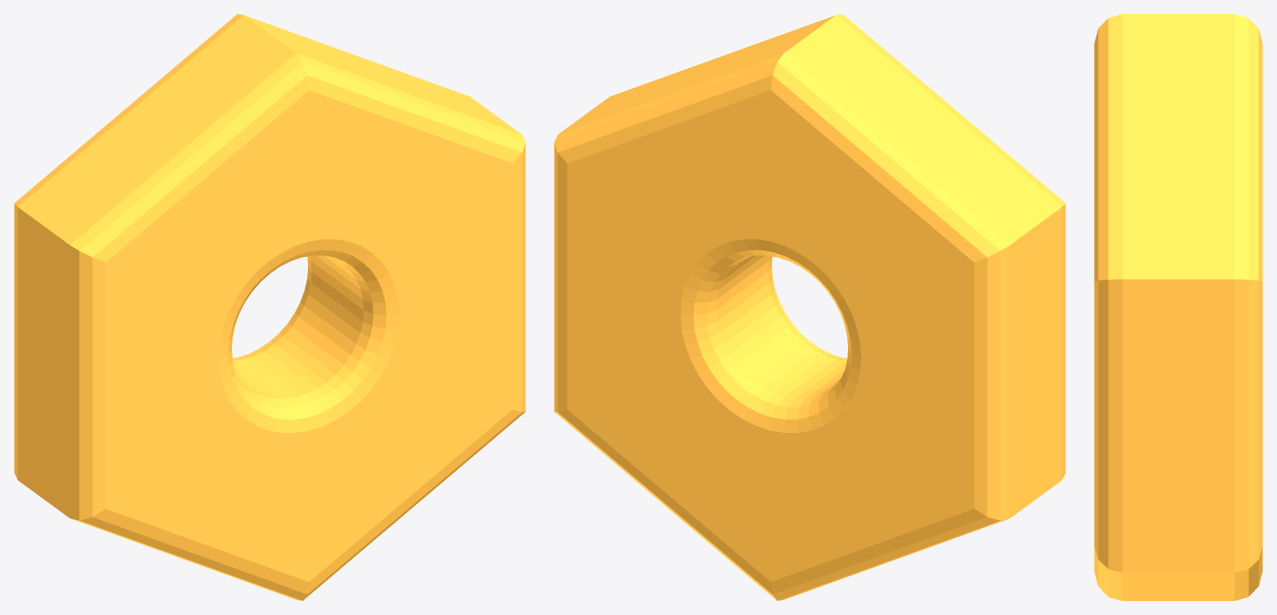
The model's file is token.glb.
3 views of the same model, side by side, from view 1: azimuth 30°, elevation 25°; view 2: azimuth 150°, elevation 25°; view 3: azimuth 270°, elevation 25° (orthographic). The views are drawn at different scales.
Parts seen in each view (by area): view 1: Token; view 2: Token; view 3: Token.
Boxes of the visible parts, <box> form: Token: <box>14,14,525,600</box>; Token: <box>554,14,1065,600</box>; Token: <box>1094,14,1262,600</box>.
Bounding box in the file's own units: 0.5003 × 0.5777 × 0.15.
